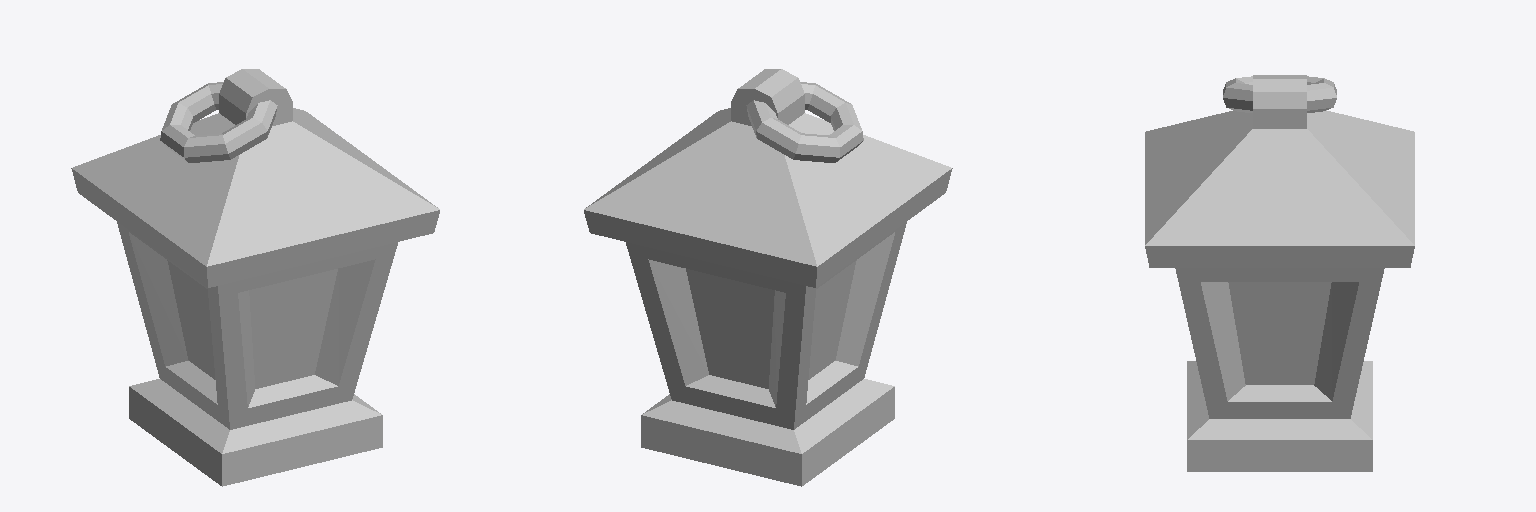
The model's file is lantern_standing.obj.
The picture shows the model from 3 angles: view 1: azimuth 30°, elevation 25°; view 2: azimuth 150°, elevation 25°; view 3: azimuth 270°, elevation 25°; orthographic projection.
Visible parts, largest first — view 1: lantern_standing_Cube.134; view 2: lantern_standing_Cube.134; view 3: lantern_standing_Cube.134.
Boxes of the visible parts, x1=… form: lantern_standing_Cube.134: x1=71, y1=69, x2=439, y2=486; lantern_standing_Cube.134: x1=584, y1=69, x2=952, y2=486; lantern_standing_Cube.134: x1=1145, y1=75, x2=1414, y2=471.
Bounding box in the file's own units: 0.64 × 0.9252 × 0.64.